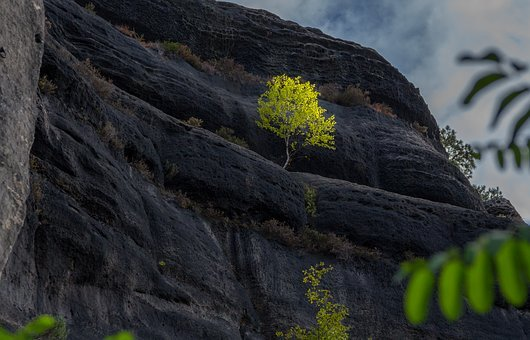mountain: (6, 1, 414, 340)
tree: (253, 68, 341, 174)
